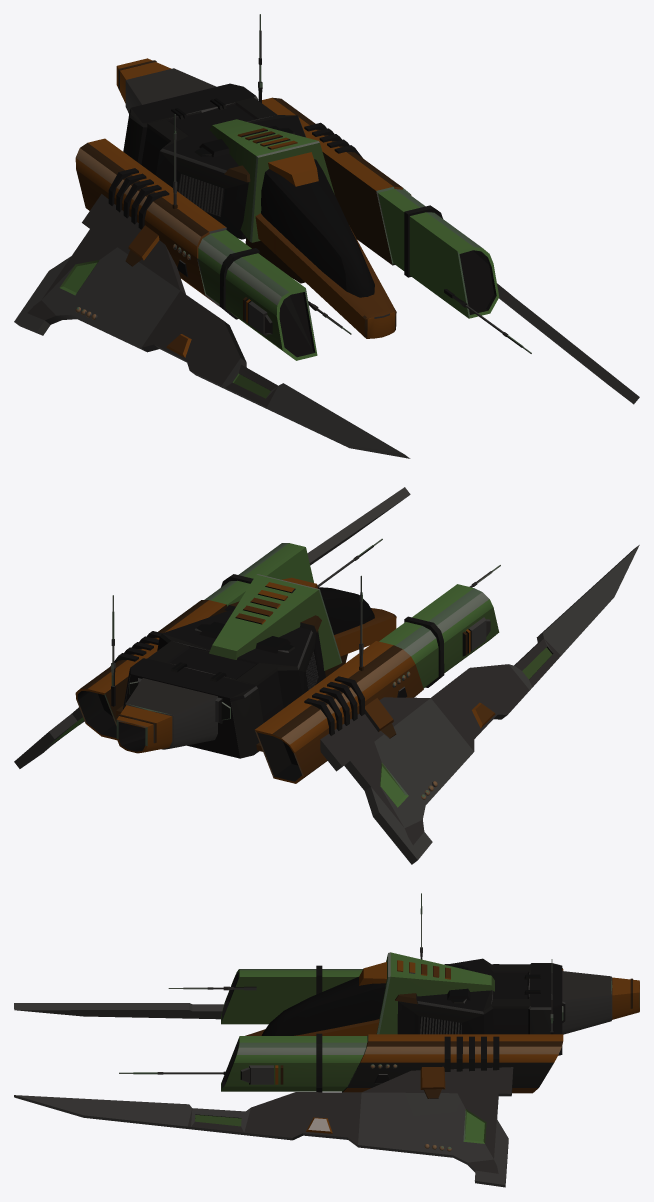
The model's file is striker.obj.
3 renders of one model, top to bottom at view 1: azimuth 30°, elevation 25°; view 2: azimuth 150°, elevation 25°; view 3: azimuth 270°, elevation 25°, orthographic. The views are drawn at different scales.
Parts seen in each view (by area): view 1: Striker_Spaceship2_Spaceship2; view 2: Striker_Spaceship2_Spaceship2; view 3: Striker_Spaceship2_Spaceship2.
Part boxes in pixels (x1=…): Striker_Spaceship2_Spaceship2: x1=14, y1=14, x2=639, y2=458; Striker_Spaceship2_Spaceship2: x1=14, y1=487, x2=639, y2=864; Striker_Spaceship2_Spaceship2: x1=14, y1=893, x2=639, y2=1187.
Bounding box in the file's own units: 5.03 × 2.68 × 8.43.
